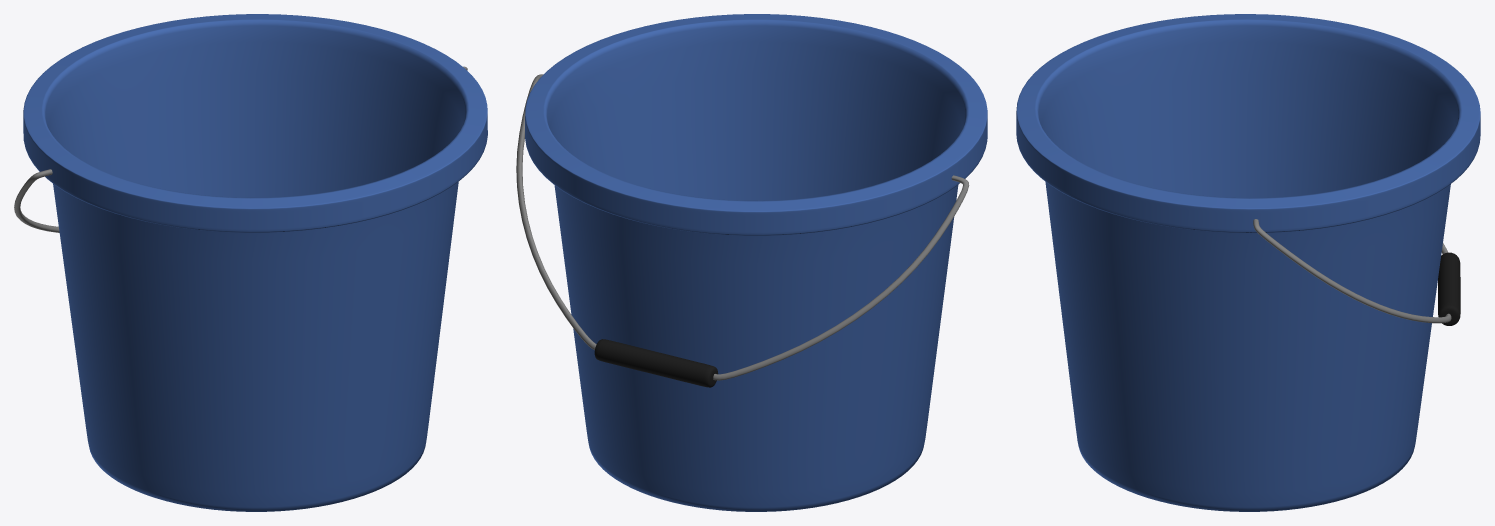
Rendered from Bucket.FBX.
3 renders of one model, left to right at view 1: azimuth 30°, elevation 25°; view 2: azimuth 150°, elevation 25°; view 3: azimuth 270°, elevation 25°, orthographic.
Visible parts, largest first — view 1: Bucket, HandleMetalRight; view 2: Bucket, Handle, HandleMetalRight, HandleMetalLeft; view 3: Bucket, HandleMetalLeft, Handle.
Part boxes in pixels (x1,y1,x2,y2): Bucket: (23,14,487,511); HandleMetalRight: (14,169,59,232); Bucket: (525,14,987,511); Handle: (594,339,718,387); HandleMetalRight: (713,175,969,380); HandleMetalLeft: (516,74,596,349); Bucket: (1016,14,1480,511); HandleMetalLeft: (1253,219,1451,323); Handle: (1438,252,1460,325).
Bounding box in the file's own units: 36.1 × 26.4 × 33.27.
